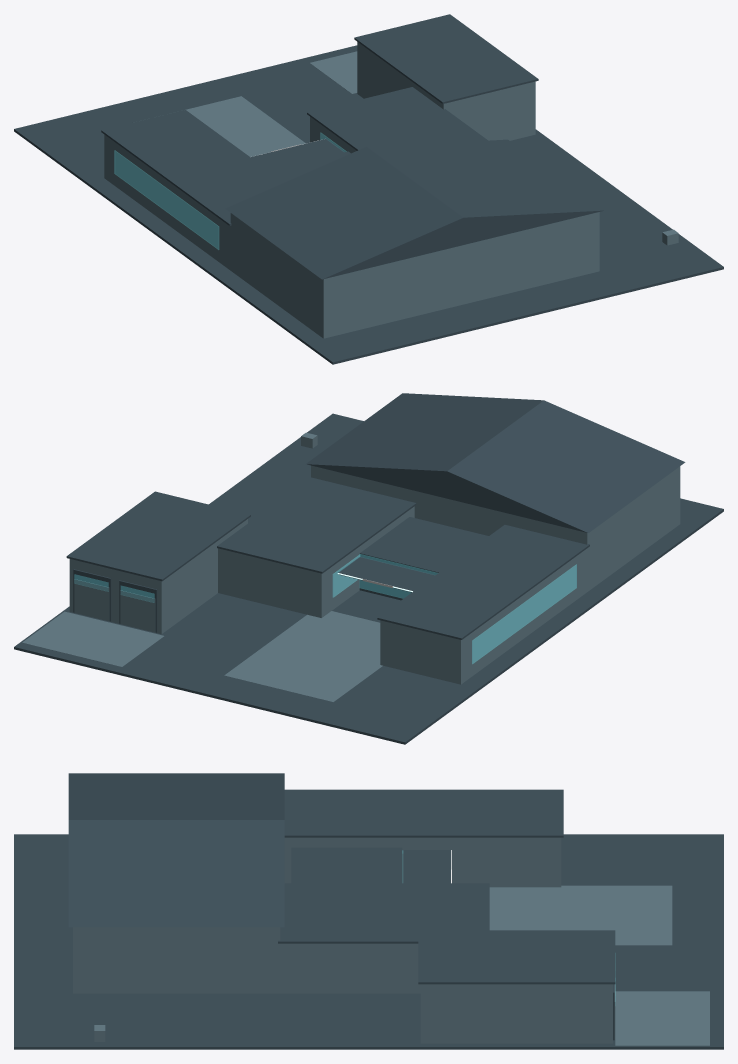
The model's file is school_emergency_services.lod2.glb.
3 renders of one model, top to bottom at view 1: azimuth 30°, elevation 25°; view 2: azimuth 150°, elevation 25°; view 3: azimuth 270°, elevation 25°, orthographic. The views are drawn at different scales.
Visible parts, largest first — view 1: school_emergency_services_graphite.002, school_emergency_services_graphite_light.002, school_emergency_services_glass.002; view 2: school_emergency_services_graphite.002, school_emergency_services_graphite_light.002, school_emergency_services_glass.002; view 3: school_emergency_services_graphite.002, school_emergency_services_graphite_light.002.
Part boxes in pixels (x1,y1,x2,y2): school_emergency_services_graphite.002: [14, 14, 723, 364]; school_emergency_services_graphite_light.002: [104, 42, 678, 338]; school_emergency_services_glass.002: [114, 133, 346, 249]; school_emergency_services_graphite.002: [14, 393, 723, 744]; school_emergency_services_graphite_light.002: [22, 432, 680, 701]; school_emergency_services_glass.002: [74, 554, 576, 663]; school_emergency_services_graphite.002: [14, 773, 723, 1049]; school_emergency_services_graphite_light.002: [73, 837, 709, 1045].
Size of the model in its own units: 68 by 15.15 by 96.
